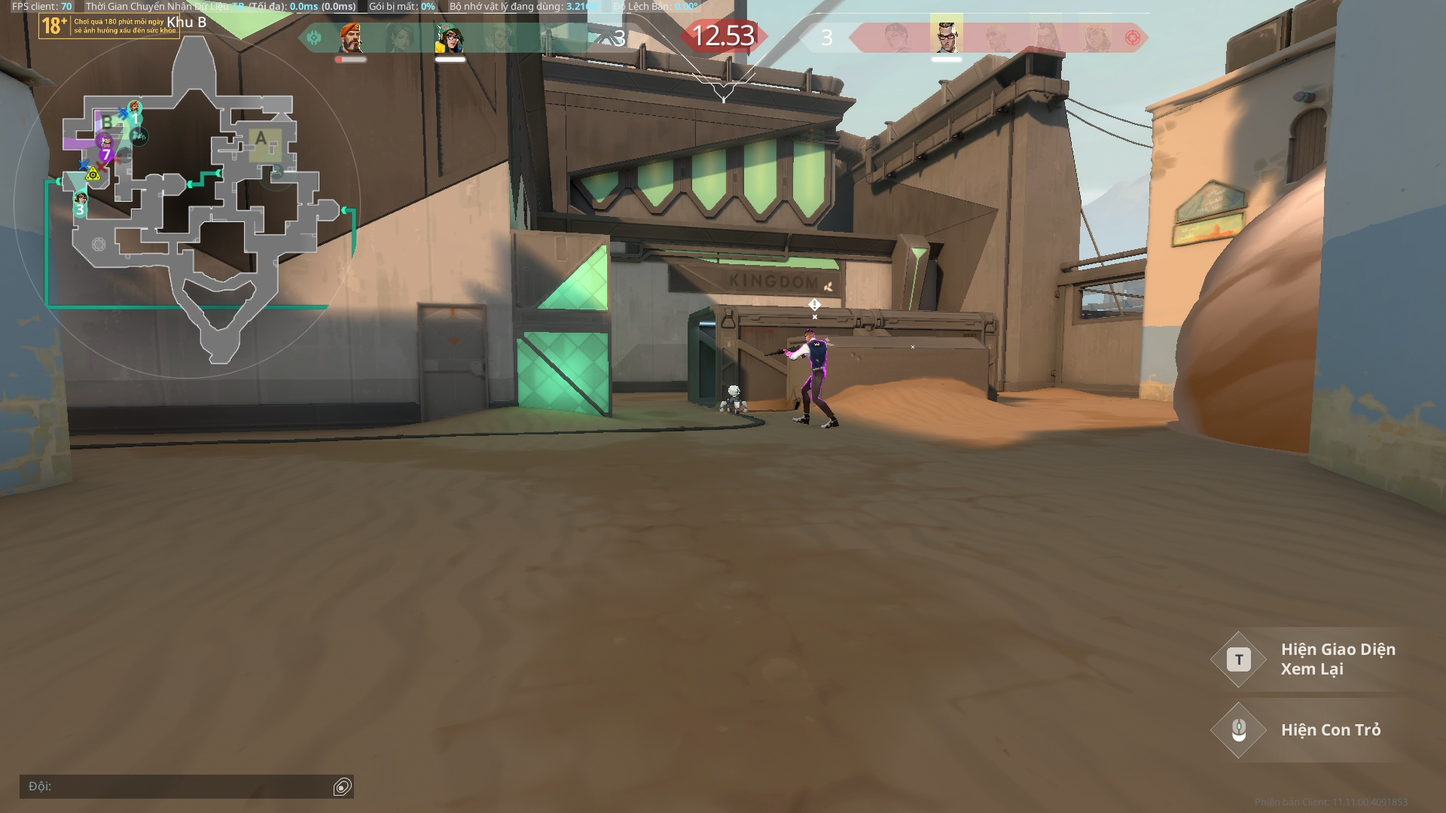body: (803, 339, 829, 370)
head: (802, 329, 816, 343)
